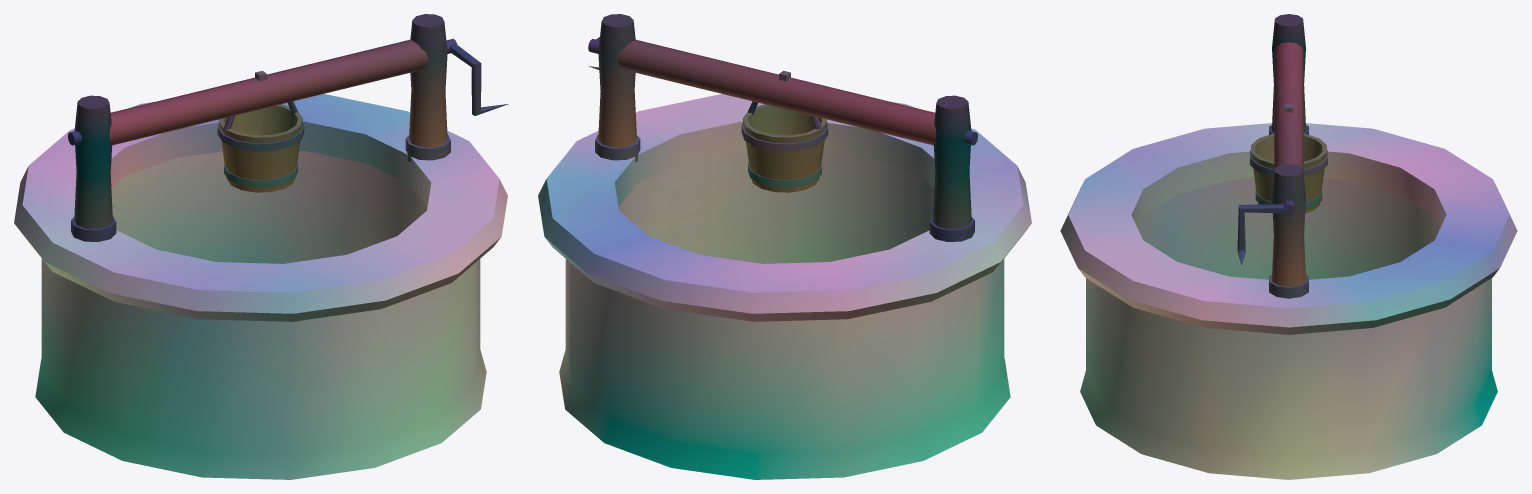
The model's file is wellhead.glb.
The picture shows the model from 3 angles, left to right: view 1: azimuth 30°, elevation 25°; view 2: azimuth 150°, elevation 25°; view 3: azimuth 270°, elevation 25°; orthographic projection. The views are drawn at different scales.
Visible parts, largest first — view 1: well_wall, well_coping, well_bar, bucket, post, post.001, well_crank, bucket_hoop_1, post_iron.001, post_iron, bucket_hoop; view 2: well_wall, well_coping, well_bar, bucket, post, post.001, bucket_hoop_1, post_iron.001, post_iron, bucket_hoop; view 3: well_wall, well_coping, post.001, well_bar, bucket, post, well_crank, post_iron.001.
Boxes of the visible parts, <box> form: well_wall: <box>35,150,486,479</box>; well_coping: <box>14,94,507,321</box>; well_bar: <box>109,39,428,145</box>; bucket: <box>218,104,303,192</box>; post: <box>74,95,112,228</box>; post.001: <box>409,14,447,147</box>; well_crank: <box>450,43,508,115</box>; bucket_hoop_1: <box>217,123,304,151</box>; post_iron.001: <box>405,134,450,162</box>; post_iron: <box>71,216,116,241</box>; bucket_hoop: <box>224,163,297,187</box>; well_wall: <box>559,150,1010,479</box>; well_coping: <box>538,94,1031,321</box>; well_bar: <box>617,39,936,145</box>; bucket: <box>742,104,827,192</box>; post: <box>933,95,971,228</box>; post.001: <box>598,14,636,147</box>; bucket_hoop_1: <box>741,123,828,151</box>; post_iron.001: <box>595,134,640,162</box>; post_iron: <box>929,216,974,241</box>; bucket_hoop: <box>748,163,821,187</box>; well_wall: <box>1080,178,1497,479</box>; well_coping: <box>1060,123,1517,334</box>; post.001: <box>1272,164,1305,286</box>; well_bar: <box>1274,42,1303,172</box>; bucket: <box>1251,133,1326,213</box>; post: <box>1272,14,1305,132</box>; well_crank: <box>1237,204,1288,265</box>; post_iron.001: <box>1269,275,1308,298</box>.
Bounding box in the file's own units: 2.36 × 1.66 × 2.32.
